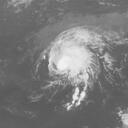cyclone: (48, 26, 103, 86)
